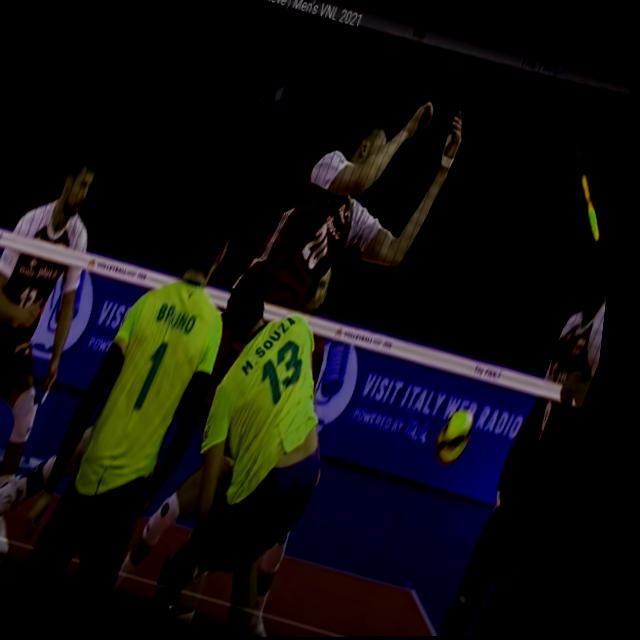player: (19, 173, 289, 615), (120, 271, 400, 639), (200, 64, 481, 422), (432, 224, 620, 637), (0, 129, 168, 559)
